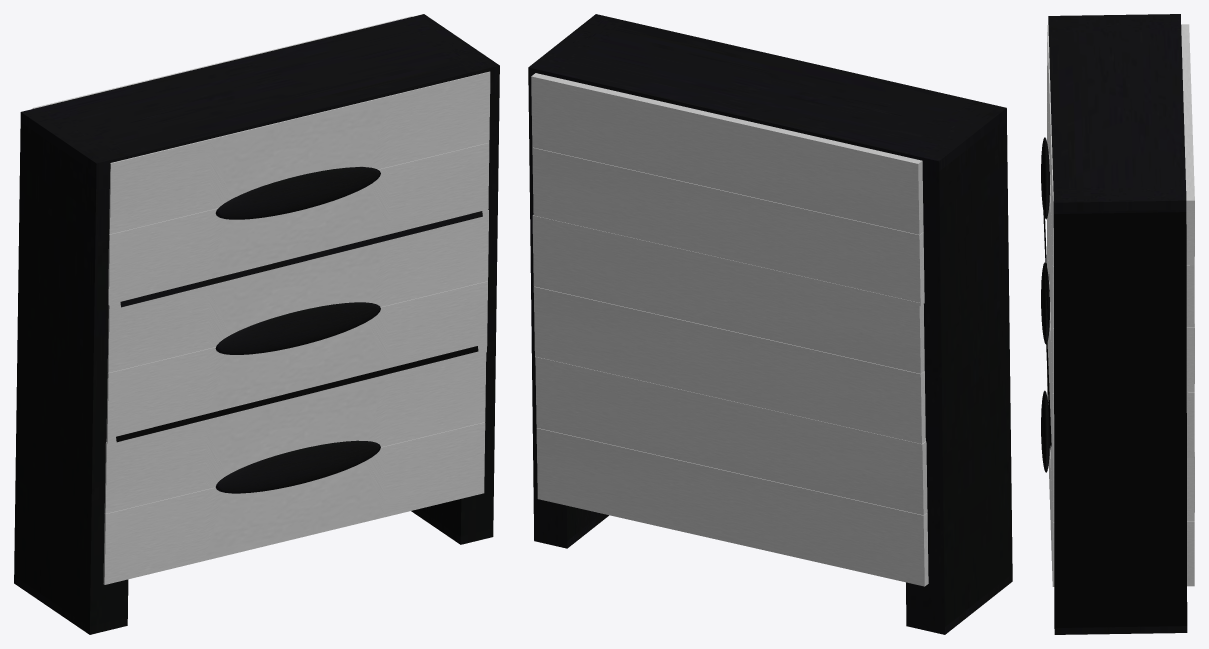
Rendered from mueblelisto.obj.
3 renders of one model, left to right at view 1: azimuth 30°, elevation 25°; view 2: azimuth 150°, elevation 25°; view 3: azimuth 270°, elevation 25°, orthographic. The views are drawn at different scales.
Parts seen in each view (by area): view 1: polySurface125 polySurface122; view 2: polySurface125 polySurface122; view 3: polySurface122 polySurface124, polySurface125 polySurface122.
Boxes of the visible parts, x1,y1,x2,y2 form: polySurface125 polySurface122: [14, 14, 499, 634]; polySurface125 polySurface122: [528, 14, 1012, 634]; polySurface122 polySurface124: [1054, 212, 1187, 627]; polySurface125 polySurface122: [1041, 14, 1194, 634].
Size of the model in its own units: 4.93 by 5.35 by 1.7.
Materials: 10 (8 with a texture image).
